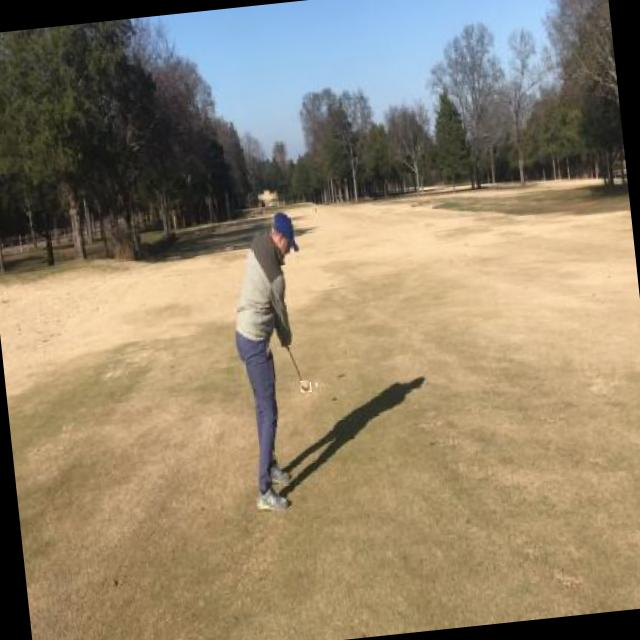club head: (300, 380, 312, 392)
